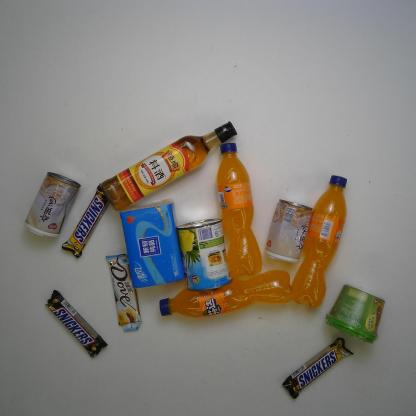Canned Food: (176, 218, 233, 294), (23, 171, 82, 239), (262, 198, 314, 266)
Chocolate: (281, 336, 355, 400), (44, 288, 109, 359), (61, 182, 112, 259), (104, 253, 142, 333)
Drink: (290, 174, 349, 310), (158, 269, 294, 320), (216, 142, 263, 282)
Instant Drink: (324, 281, 387, 346)
Seasoner: (100, 120, 238, 212)
Tissue: (118, 196, 186, 290)
